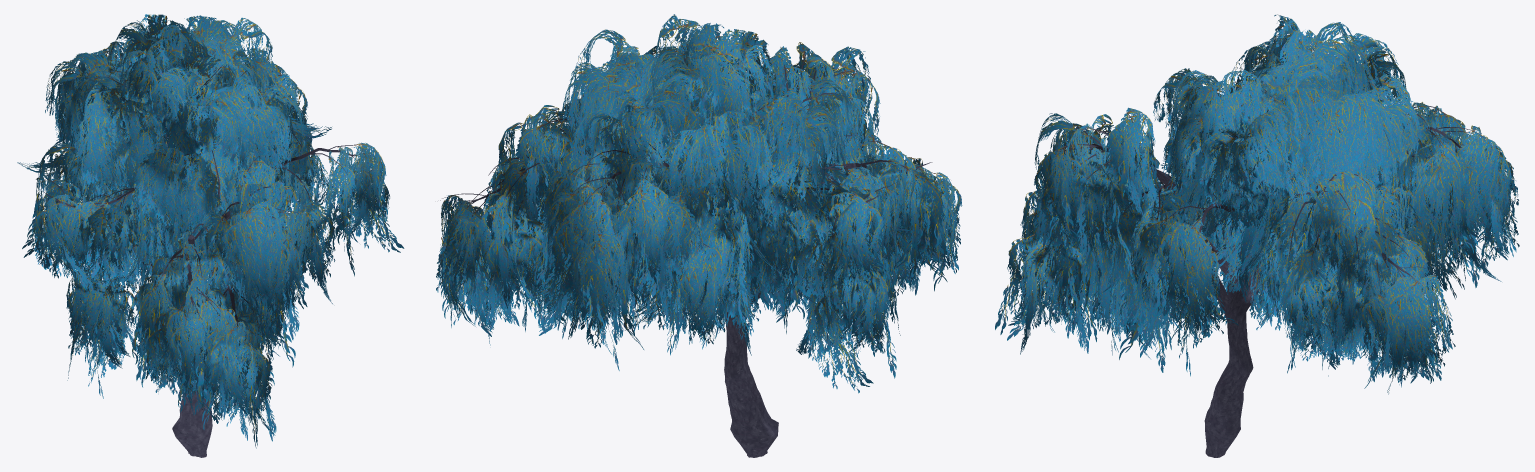
3 views of the same model, side by side, from view 1: azimuth 30°, elevation 25°; view 2: azimuth 150°, elevation 25°; view 3: azimuth 270°, elevation 25° (orthographic). The views are drawn at different scales.
Parts seen in each view (by area): view 1: SM_Willow_01_LOD0; view 2: SM_Willow_01_LOD0; view 3: SM_Willow_01_LOD0.
Boxes of the visible parts, x1=… form: SM_Willow_01_LOD0: x1=17, y1=14, x2=404, y2=457; SM_Willow_01_LOD0: x1=436, y1=14, x2=962, y2=457; SM_Willow_01_LOD0: x1=995, y1=14, x2=1519, y2=457.
Bounding box in the file's own units: 16.15 × 18.26 × 19.93.
1 material, 1 textured.
